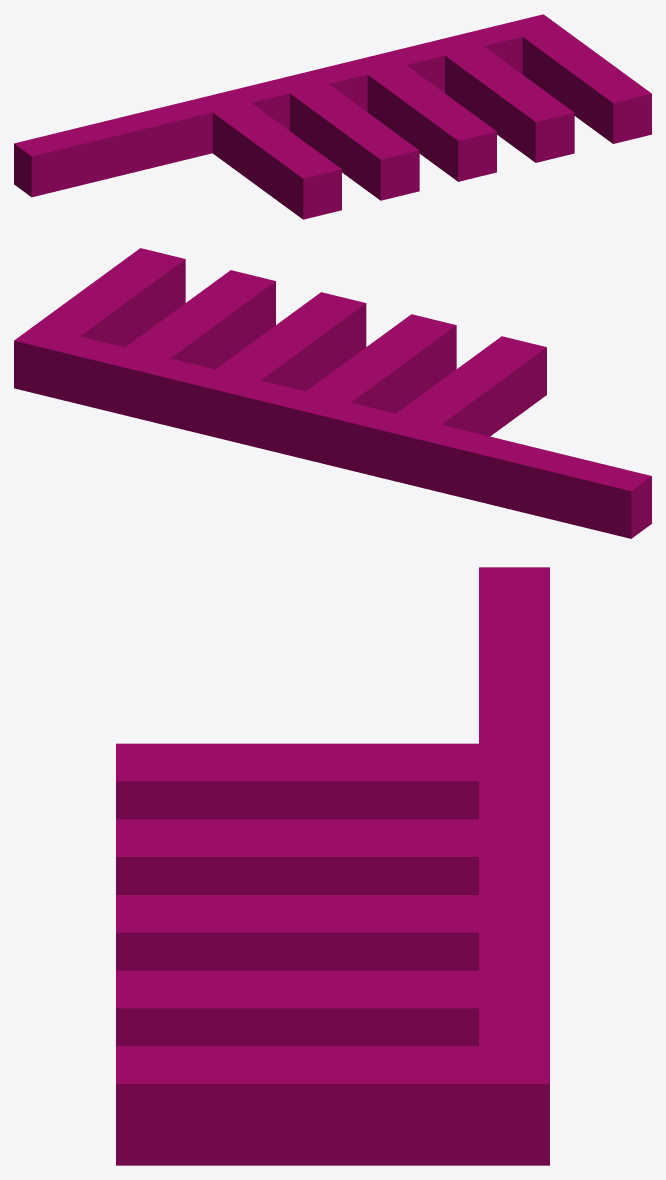
File: Comb.fbx
3 renders of one model, top to bottom at view 1: azimuth 30°, elevation 25°; view 2: azimuth 150°, elevation 25°; view 3: azimuth 270°, elevation 25°, orthographic. The views are drawn at different scales.
Visible parts, largest first — view 1: pCube1; view 2: pCube1; view 3: pCube1.
Part boxes in pixels (x1,y1,x2,y2): pCube1: [14, 14, 651, 219]; pCube1: [14, 248, 651, 538]; pCube1: [116, 567, 549, 1165].
Bounding box in the file's own units: 367 × 27.14 × 130.
